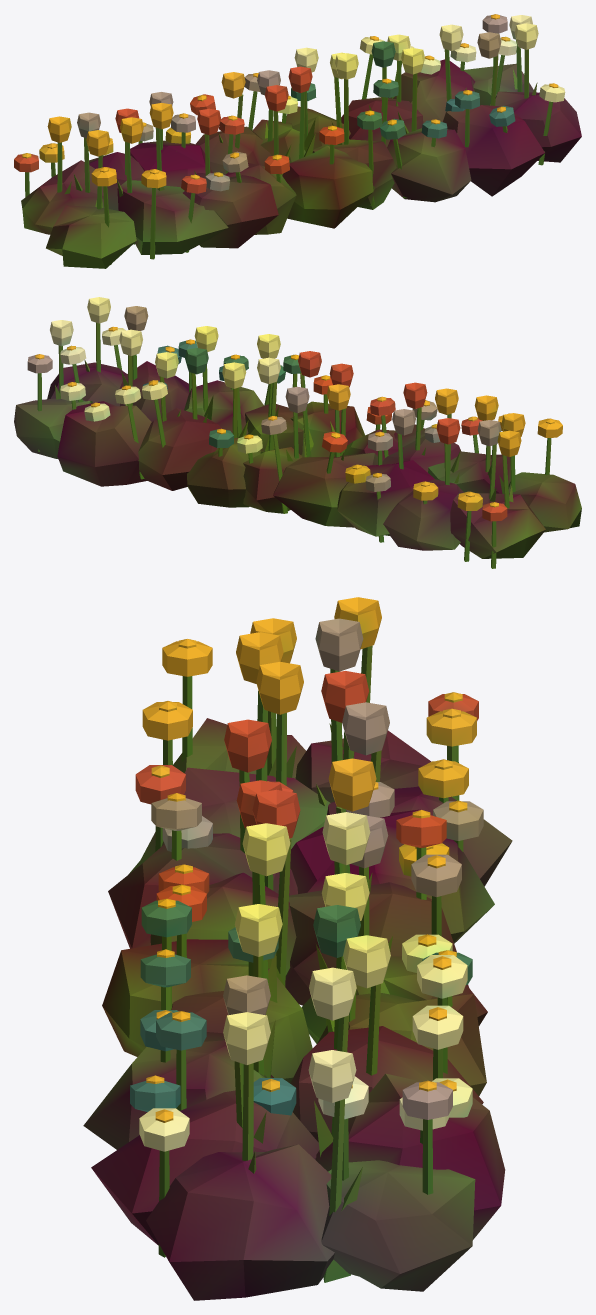
Rendered from FlowerBed_Grass_Long_01.fbx.
The picture shows the model from 3 angles, top to bottom: view 1: azimuth 30°, elevation 25°; view 2: azimuth 150°, elevation 25°; view 3: azimuth 270°, elevation 25°; orthographic projection. The views are drawn at different scales.
Visible parts, largest first — view 1: FlowerBed_Grass_Long_01; view 2: FlowerBed_Grass_Long_01; view 3: FlowerBed_Grass_Long_01.
Boxes of the visible parts, x1,y1,x2,y2 form: FlowerBed_Grass_Long_01: (14,14,581,268); FlowerBed_Grass_Long_01: (14,297,581,568); FlowerBed_Grass_Long_01: (83,597,512,1300).
Size of the model in its own units: 2.46 by 0.6497 by 0.8726.
